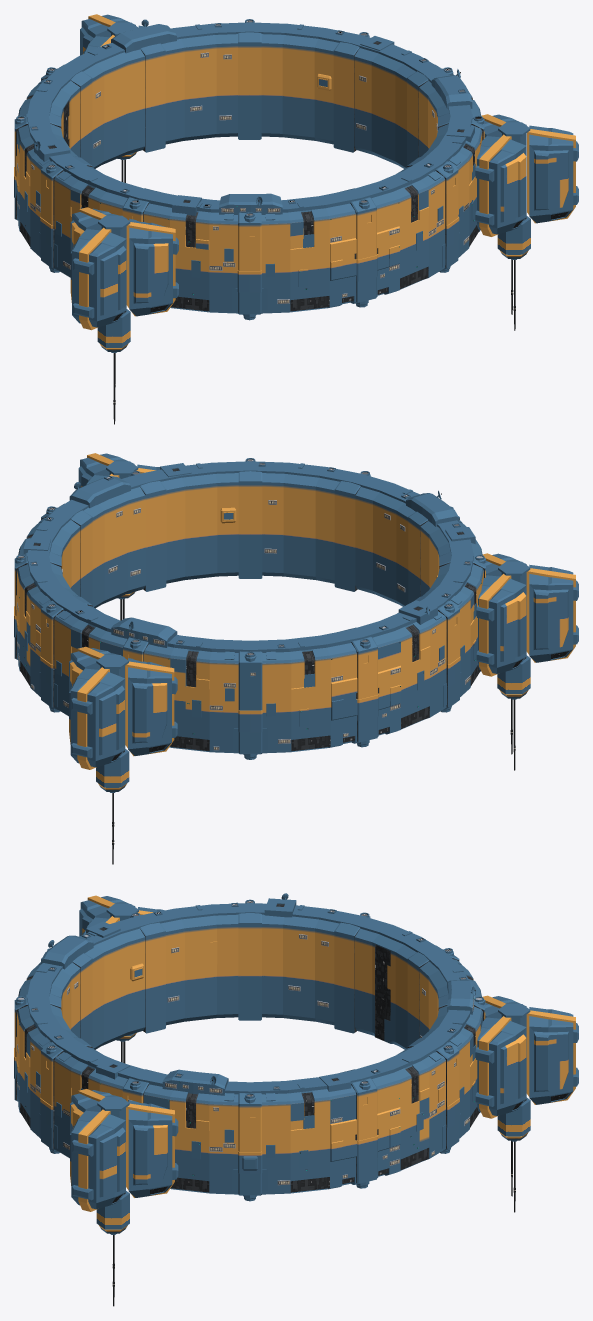
The model's file is Gate_body.glb.
3 views of the same model, one above another, from view 1: azimuth 30°, elevation 25°; view 2: azimuth 150°, elevation 25°; view 3: azimuth 270°, elevation 25° (orthographic).
Visible parts, largest first — view 1: SM_Veh_WarpGate_Outer_01; view 2: SM_Veh_WarpGate_Outer_01; view 3: SM_Veh_WarpGate_Outer_01.
Boxes of the visible parts, x1,y1,x2,y2 form: SM_Veh_WarpGate_Outer_01: (14, 14, 578, 424); SM_Veh_WarpGate_Outer_01: (14, 453, 578, 864); SM_Veh_WarpGate_Outer_01: (14, 893, 578, 1306).
Bounding box in the file's own units: 689 × 299 × 674.
1 material, 1 textured.
